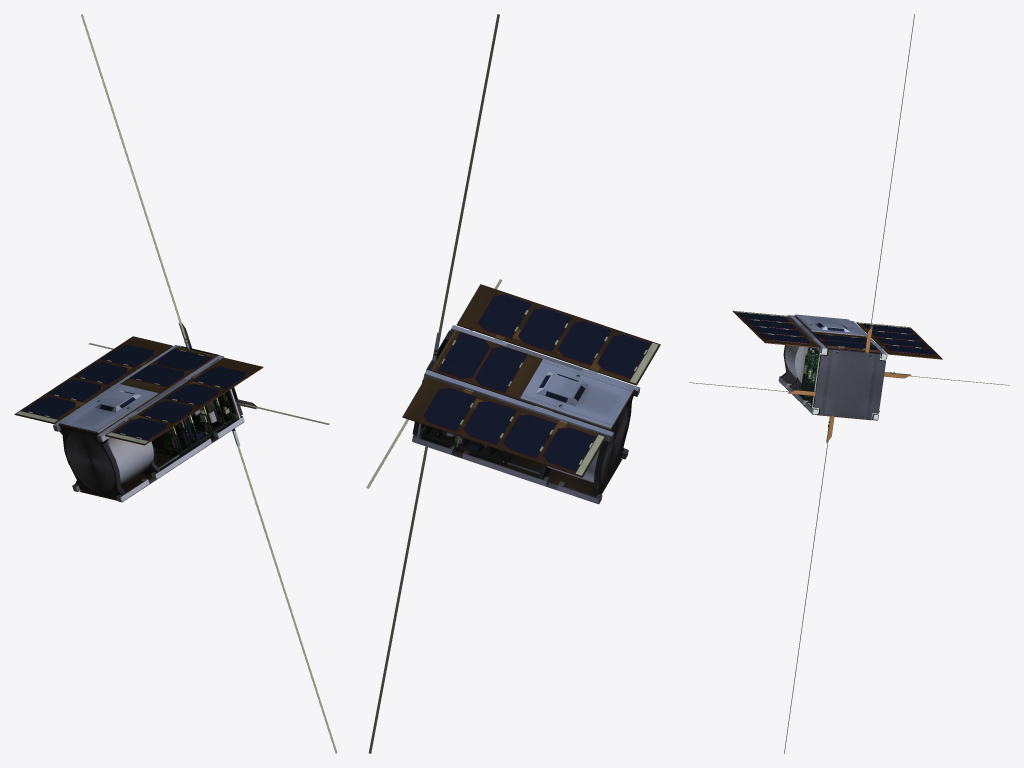
Rendered from sputnik_2.glb.
The picture shows the model from 3 angles, left to right: view 1: azimuth 30°, elevation 25°; view 2: azimuth 150°, elevation 25°; view 3: azimuth 270°, elevation 25°; orthographic projection. The views are drawn at different scales.
Parts seen in each view (by area): view 1: Object_3, Object_4, Object_2, Object_5, Object_6; view 2: Object_3, Object_2, Object_4, Object_5; view 3: Object_3, Object_2, Object_4, Object_5.
Boxes of the visible parts, x1,y1,x2,y2 form: Object_3: [14, 14, 337, 753]; Object_4: [16, 323, 255, 499]; Object_2: [53, 322, 257, 502]; Object_5: [145, 362, 235, 469]; Object_6: [155, 393, 234, 453]; Object_3: [366, 14, 660, 753]; Object_2: [412, 324, 640, 504]; Object_4: [413, 314, 658, 498]; Object_5: [421, 372, 539, 475]; Object_3: [689, 14, 1008, 753]; Object_2: [692, 17, 1009, 749]; Object_4: [734, 311, 910, 419]; Object_5: [795, 334, 880, 405].
Bounding box in the file's own units: 38.35 × 106 × 46.58.
2 materials, 2 textured.
